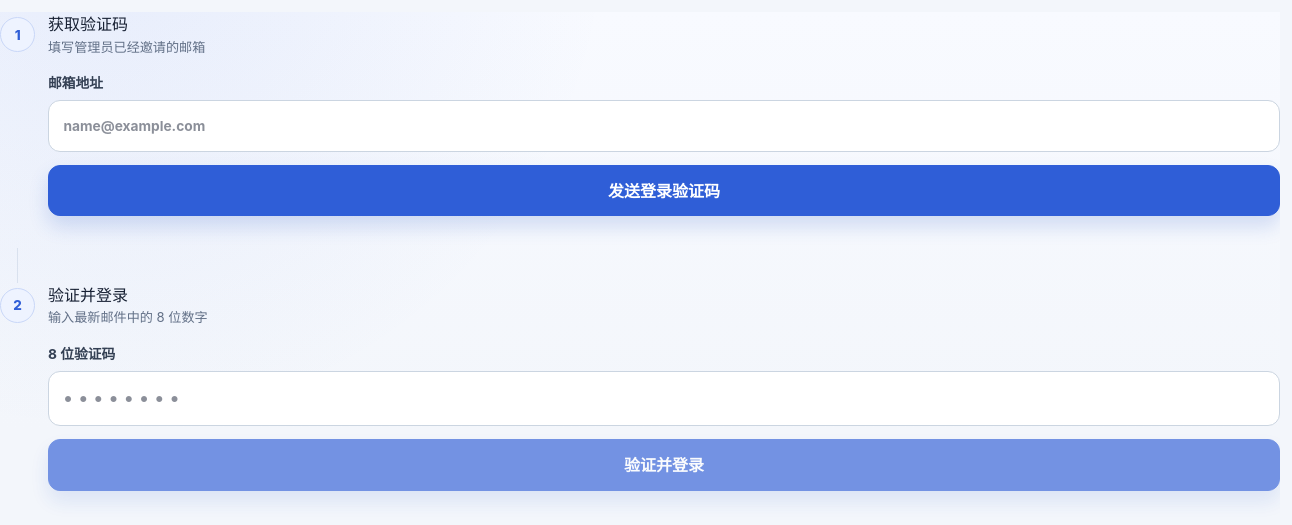
Scenario: LoginForm › shows the generic success state after a submitted address is accepted
The width and height of the screenshot is (1292, 525).
Type "member@example.com" into the field labelled "邮箱地址" at (664, 126), box x1=48 y1=100 x2=1280 y2=152
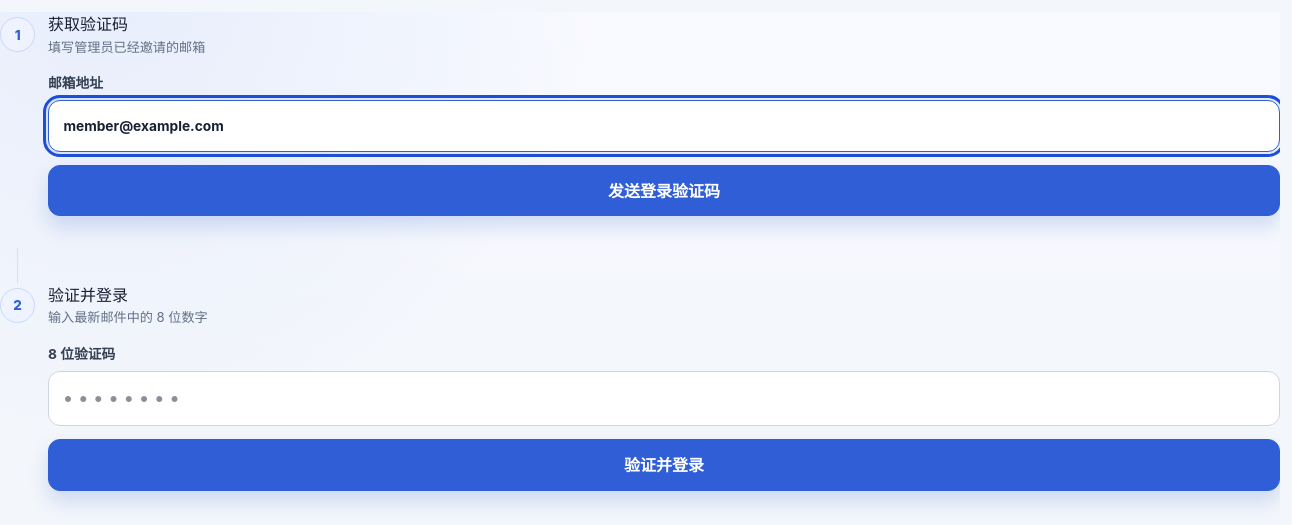
Click the button "发送登录验证码" at (664, 191), box x1=48 y1=165 x2=1280 y2=216
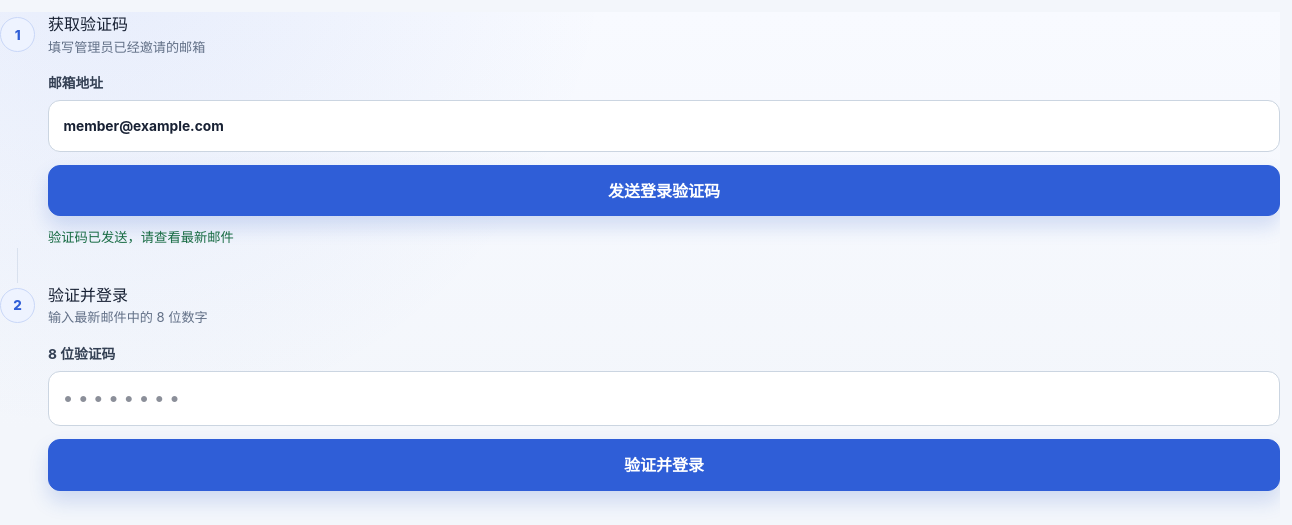
Expected: the text "验证码已发送，请查看最新邮件" is shown, x1=48 y1=229 x2=234 y2=245
